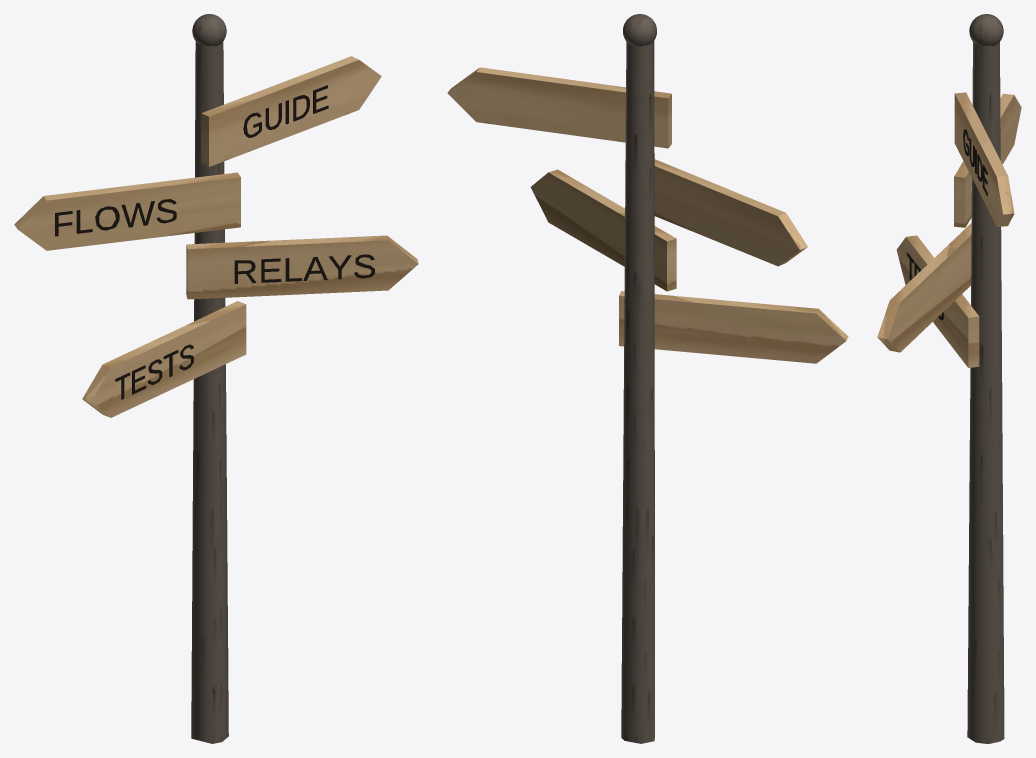
Rendered from signpost.glb.
3 renders of one model, left to right at view 1: azimuth 30°, elevation 25°; view 2: azimuth 150°, elevation 25°; view 3: azimuth 270°, elevation 25°, orthographic.
Parts seen in each view (by area): view 1: signpost; view 2: signpost; view 3: signpost.
Part boxes in pixels (x1=…): signpost: x1=14, y1=14, x2=418, y2=743; signpost: x1=447, y1=14, x2=848, y2=743; signpost: x1=877, y1=14, x2=1021, y2=743.
Bounding box in the file's own units: 1.51 × 2.87 × 0.5217.
3 materials, 2 textured.
